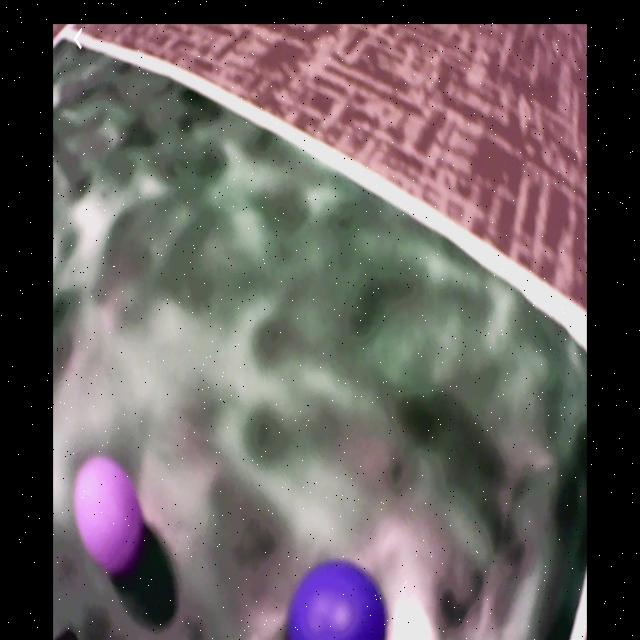ball: (286, 561, 388, 640), (76, 458, 145, 572)
